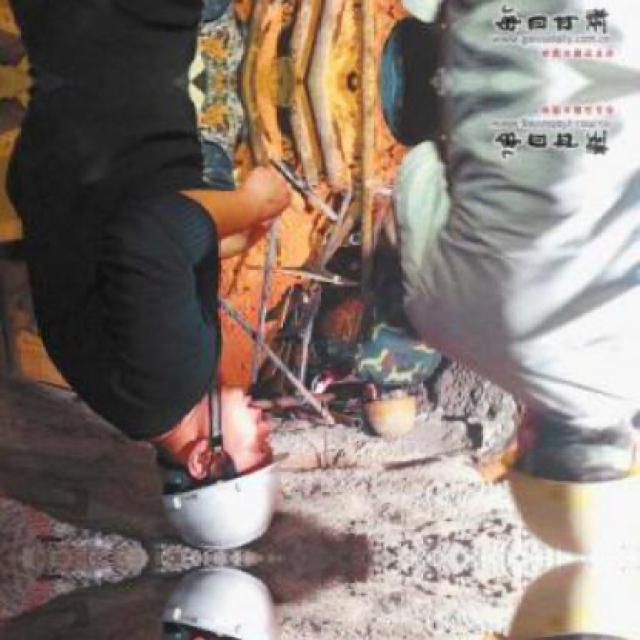con casco: (151, 424, 277, 551), (508, 446, 638, 548)
